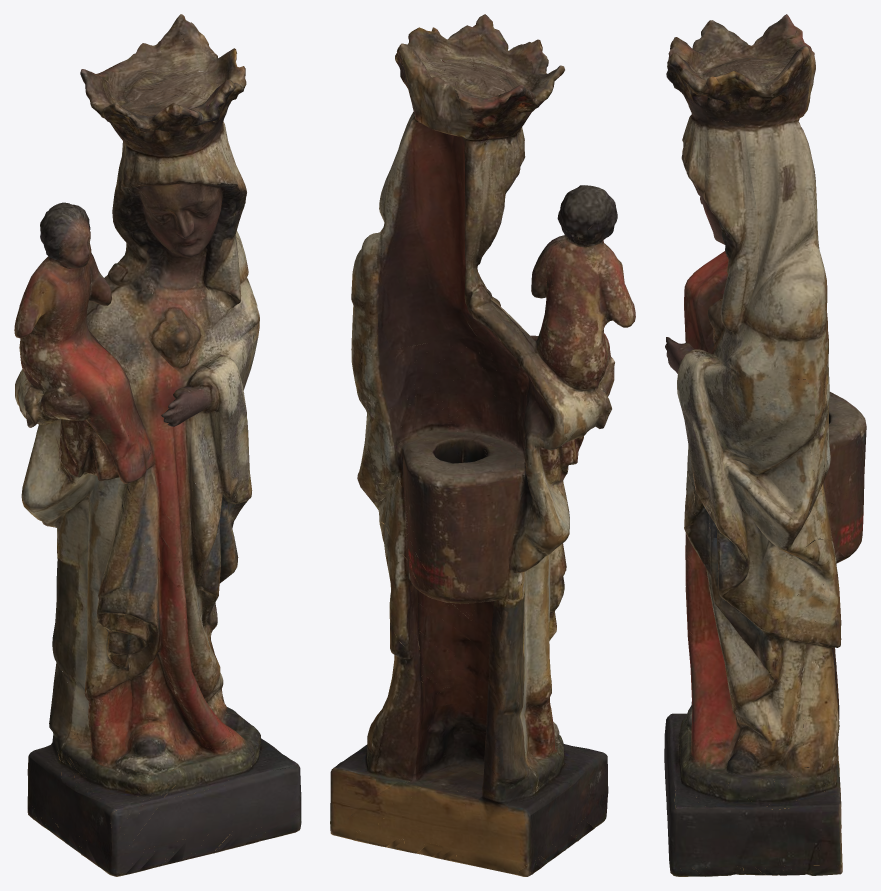
File: scan-mary.glb
3 views of the same model, side by side, from view 1: azimuth 30°, elevation 25°; view 2: azimuth 150°, elevation 25°; view 3: azimuth 270°, elevation 25° (orthographic). The views are drawn at different scales.
Visible parts, largest first — view 1: geometry_1, geometry_2; view 2: geometry_2, geometry_1; view 3: geometry_1, geometry_2.
Part boxes in pixels (x1,y1,x2,y2): geometry_1: (14, 19, 301, 876); geometry_2: (15, 14, 301, 876); geometry_2: (330, 14, 617, 876); geometry_1: (330, 19, 635, 876); geometry_1: (664, 14, 863, 876); geometry_2: (664, 19, 866, 876).
Bounding box in the file's own units: 0.6743 × 2 × 0.4563.
Materials: 1 (1 with a texture image).
